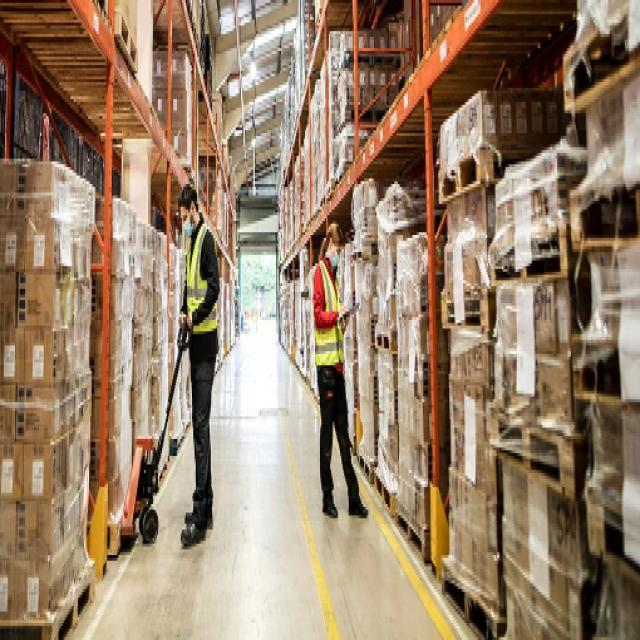boots: (180, 500, 216, 548), (320, 492, 370, 522)
vest: (184, 221, 221, 335), (313, 257, 346, 367)
